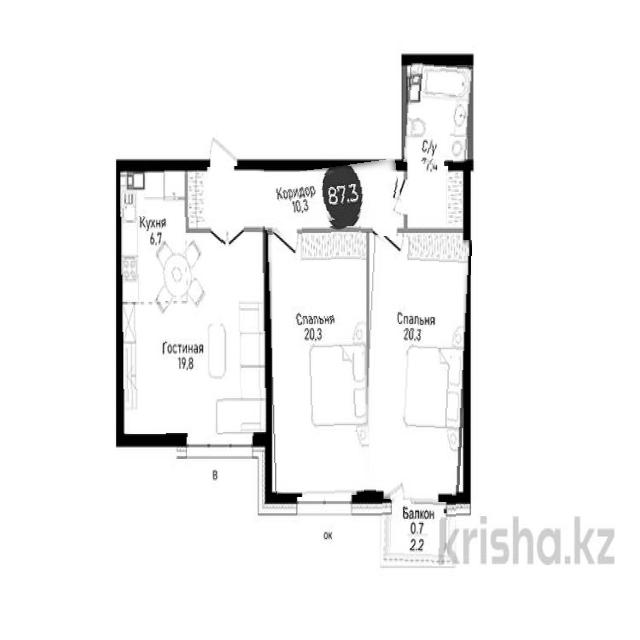balcony: (380, 500, 456, 566)
bathroom: (404, 63, 471, 166)
hallway: (189, 165, 401, 232)
living_room: (365, 236, 469, 501), (269, 226, 368, 497)
studio: (120, 169, 268, 438)
